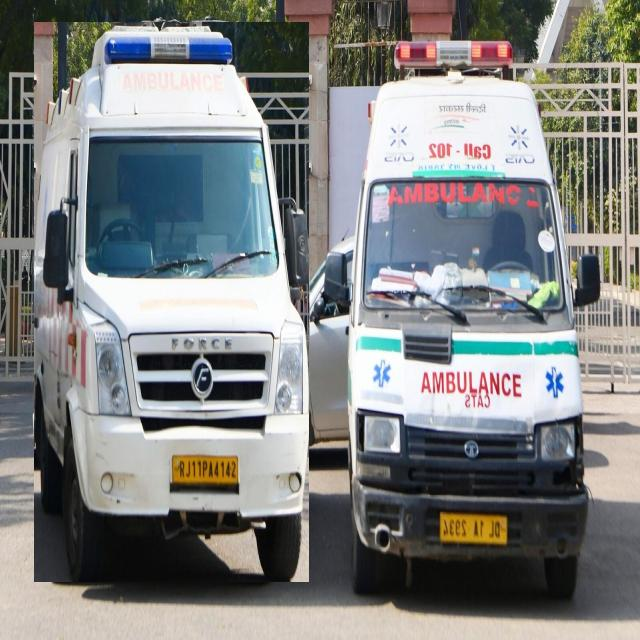emergency: (34, 22, 309, 582), (325, 42, 600, 598)
